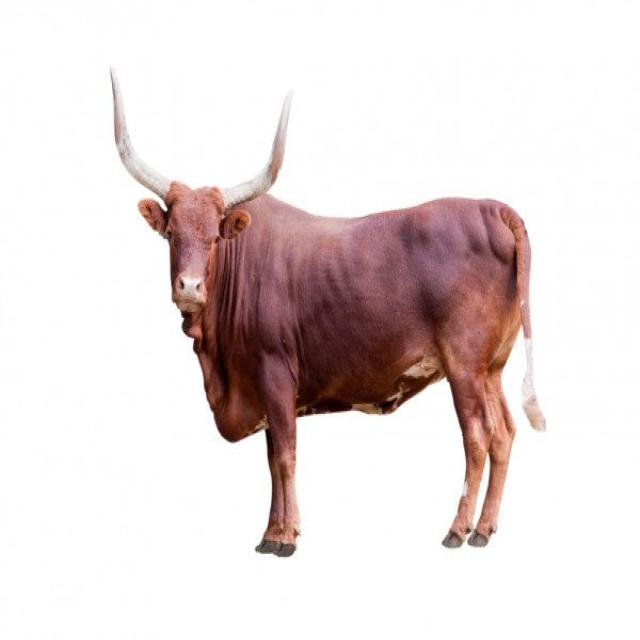Ox: (101, 61, 553, 570)
